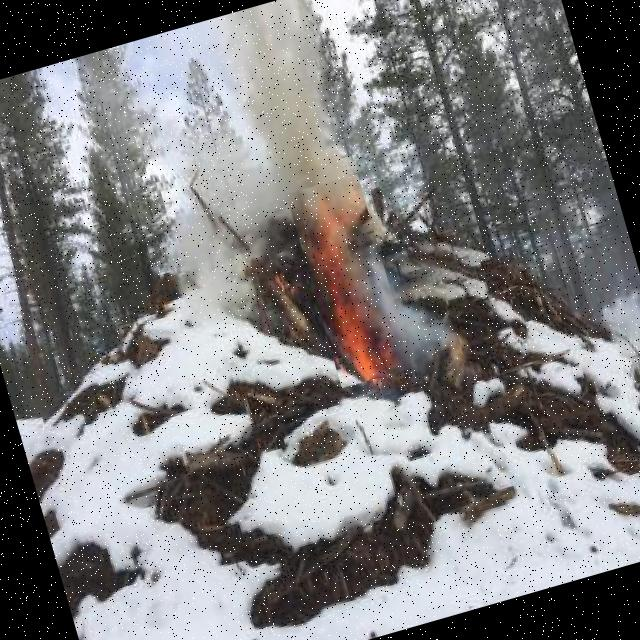fire: (286, 173, 412, 388)
